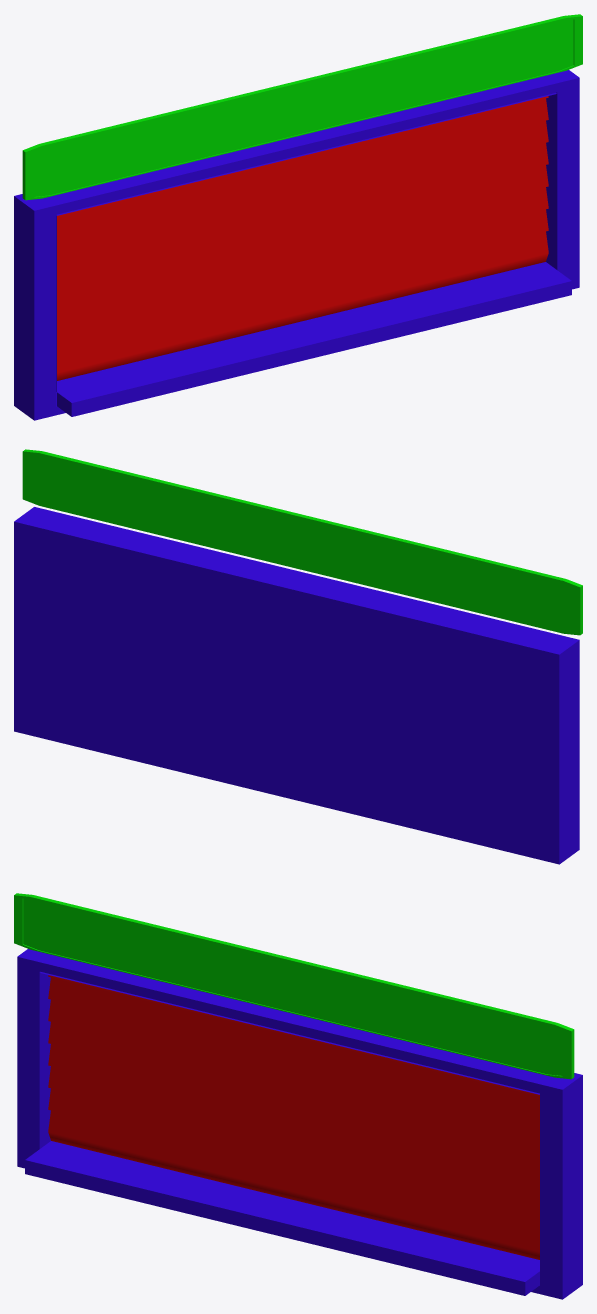
Rendered from BalcaoeMural.fbx.
3 views of the same model, one above another, from view 1: azimuth 30°, elevation 25°; view 2: azimuth 150°, elevation 25°; view 3: azimuth 330°, elevation 25° (orthographic).
Parts seen in each view (by area): view 1: pCube3; view 2: pCube3; view 3: pCube3.
Boxes of the visible parts, x1,y1,x2,y2 form: pCube3: [14, 14, 582, 420]; pCube3: [14, 449, 582, 864]; pCube3: [14, 893, 582, 1299].
Bounding box in the file's own units: 12.17 × 5.64 × 1.33.
